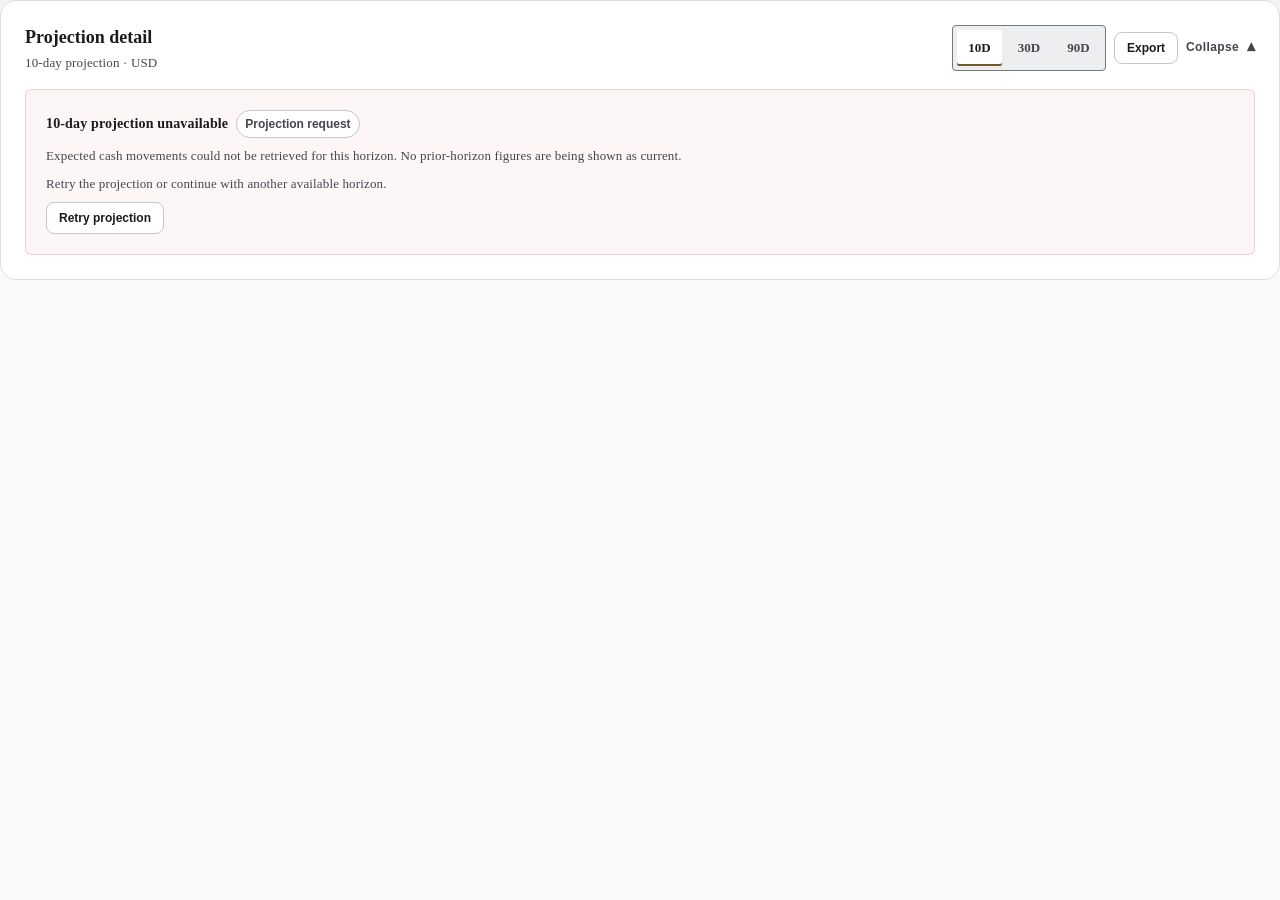
Test case: PortfolioProjectedCashflowModule › clears failure posture while an unavailable projection retry is pending
Expected: the heading "10-day projection unavailable" is shown, [46,113,228,135]
Click the button "Retry projection" at point(105, 218), box [46,202,164,234]
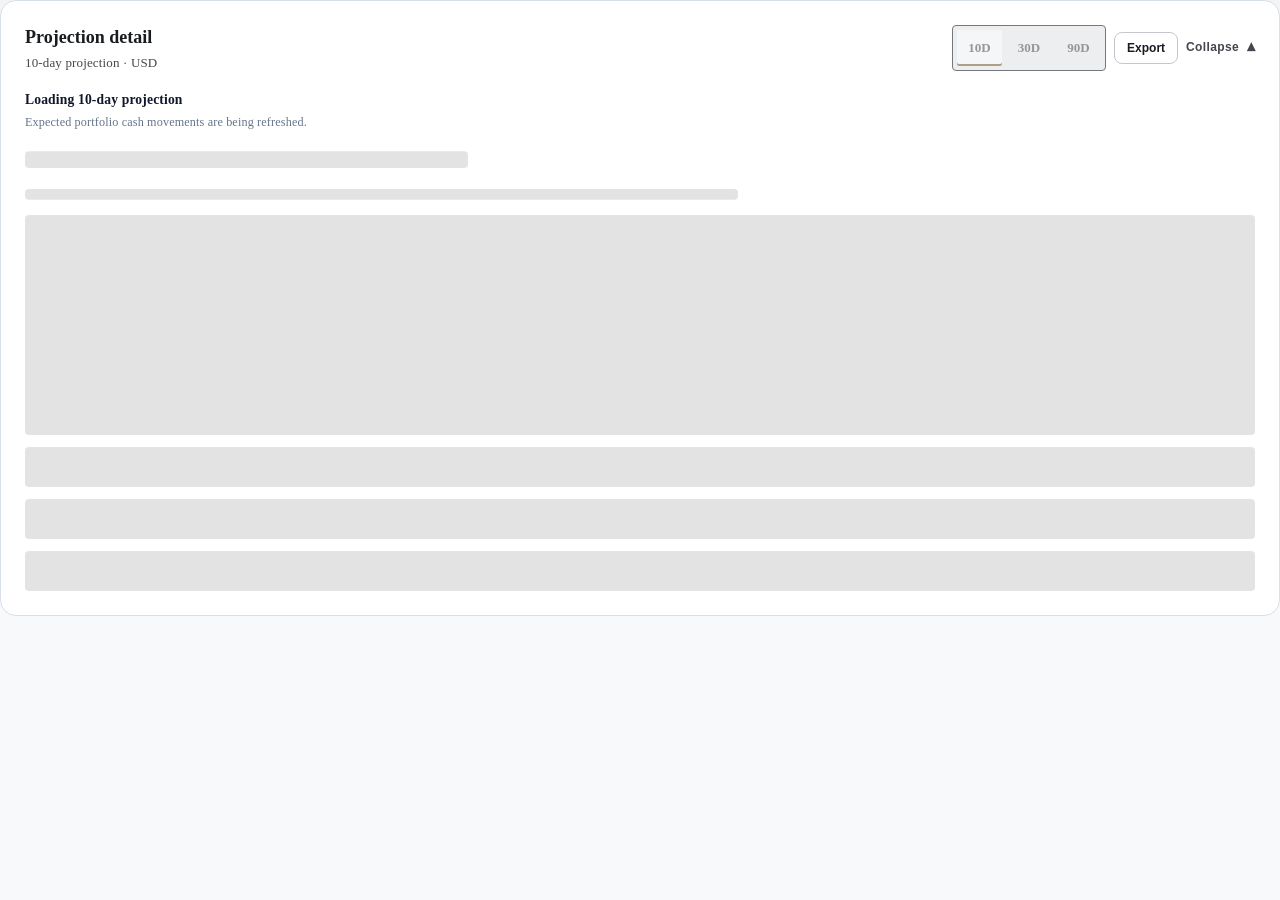
Result: the text "Loading 10-day projection" is shown at [25,92,183,107]
Result: the button "Retry projection" is gone
